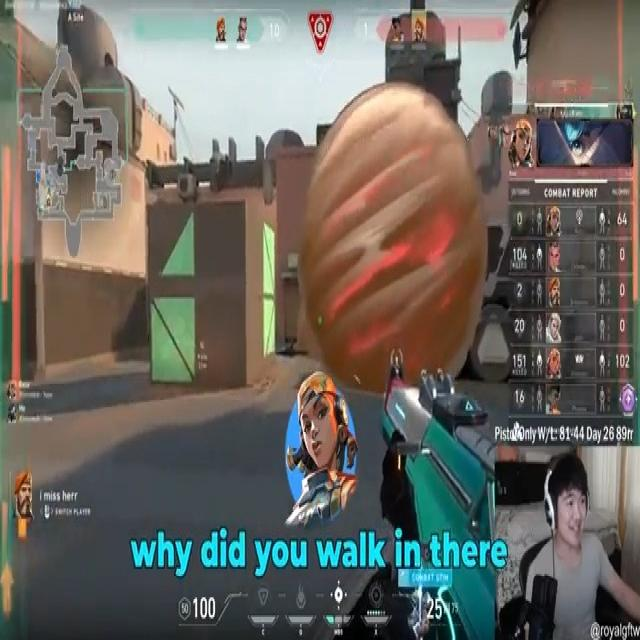smoke: (303, 86, 477, 389)
